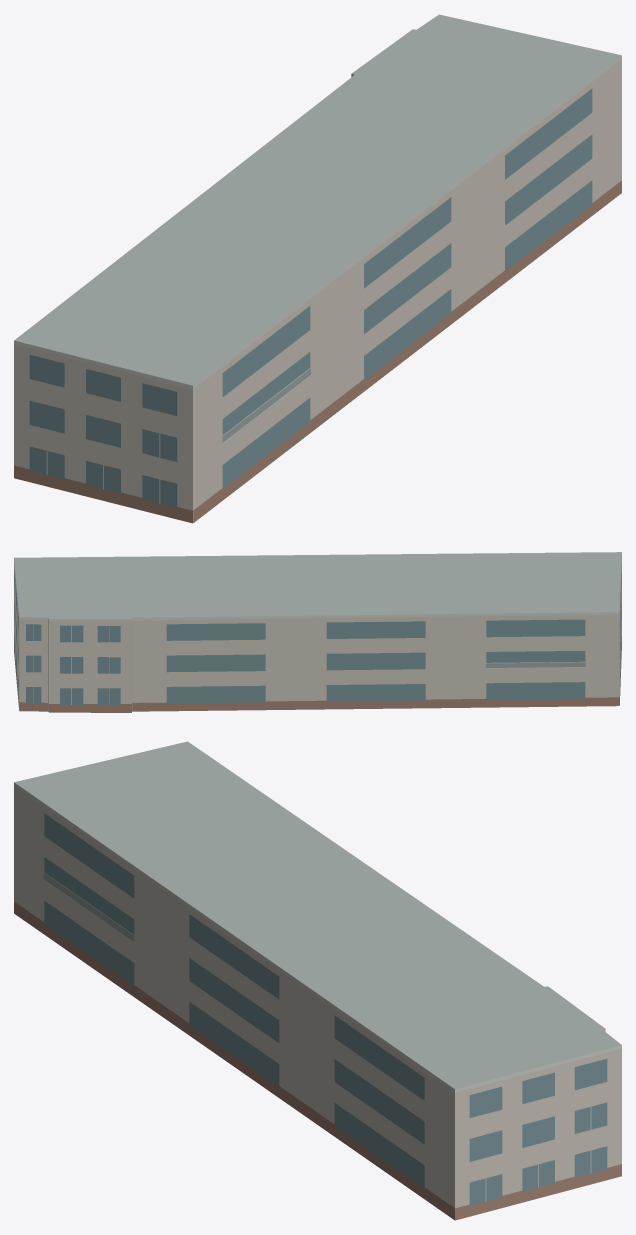
File: survey-upis-32606052.glb
3 renders of one model, top to bottom at view 1: azimuth 30°, elevation 25°; view 2: azimuth 150°, elevation 25°; view 3: azimuth 270°, elevation 25°, orthographic. The views are drawn at different scales.
Visible parts, largest first — view 1: survey-upis-32606052.tmp; view 2: survey-upis-32606052.tmp; view 3: survey-upis-32606052.tmp.
Boxes of the visible parts, x1=… form: survey-upis-32606052.tmp: x1=14, y1=14, x2=621, y2=523; survey-upis-32606052.tmp: x1=14, y1=552, x2=621, y2=712; survey-upis-32606052.tmp: x1=14, y1=741, x2=621, y2=1220.
Size of the model in its own units: 52.03 by 9.15 by 38.42.
